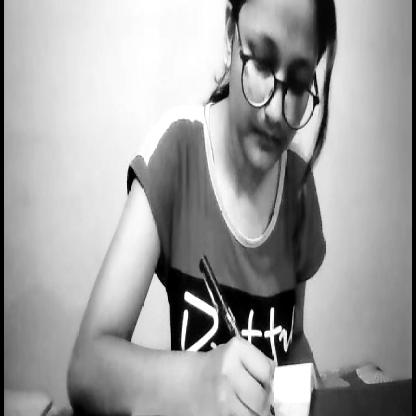Distracted: (227, 0, 314, 185)
